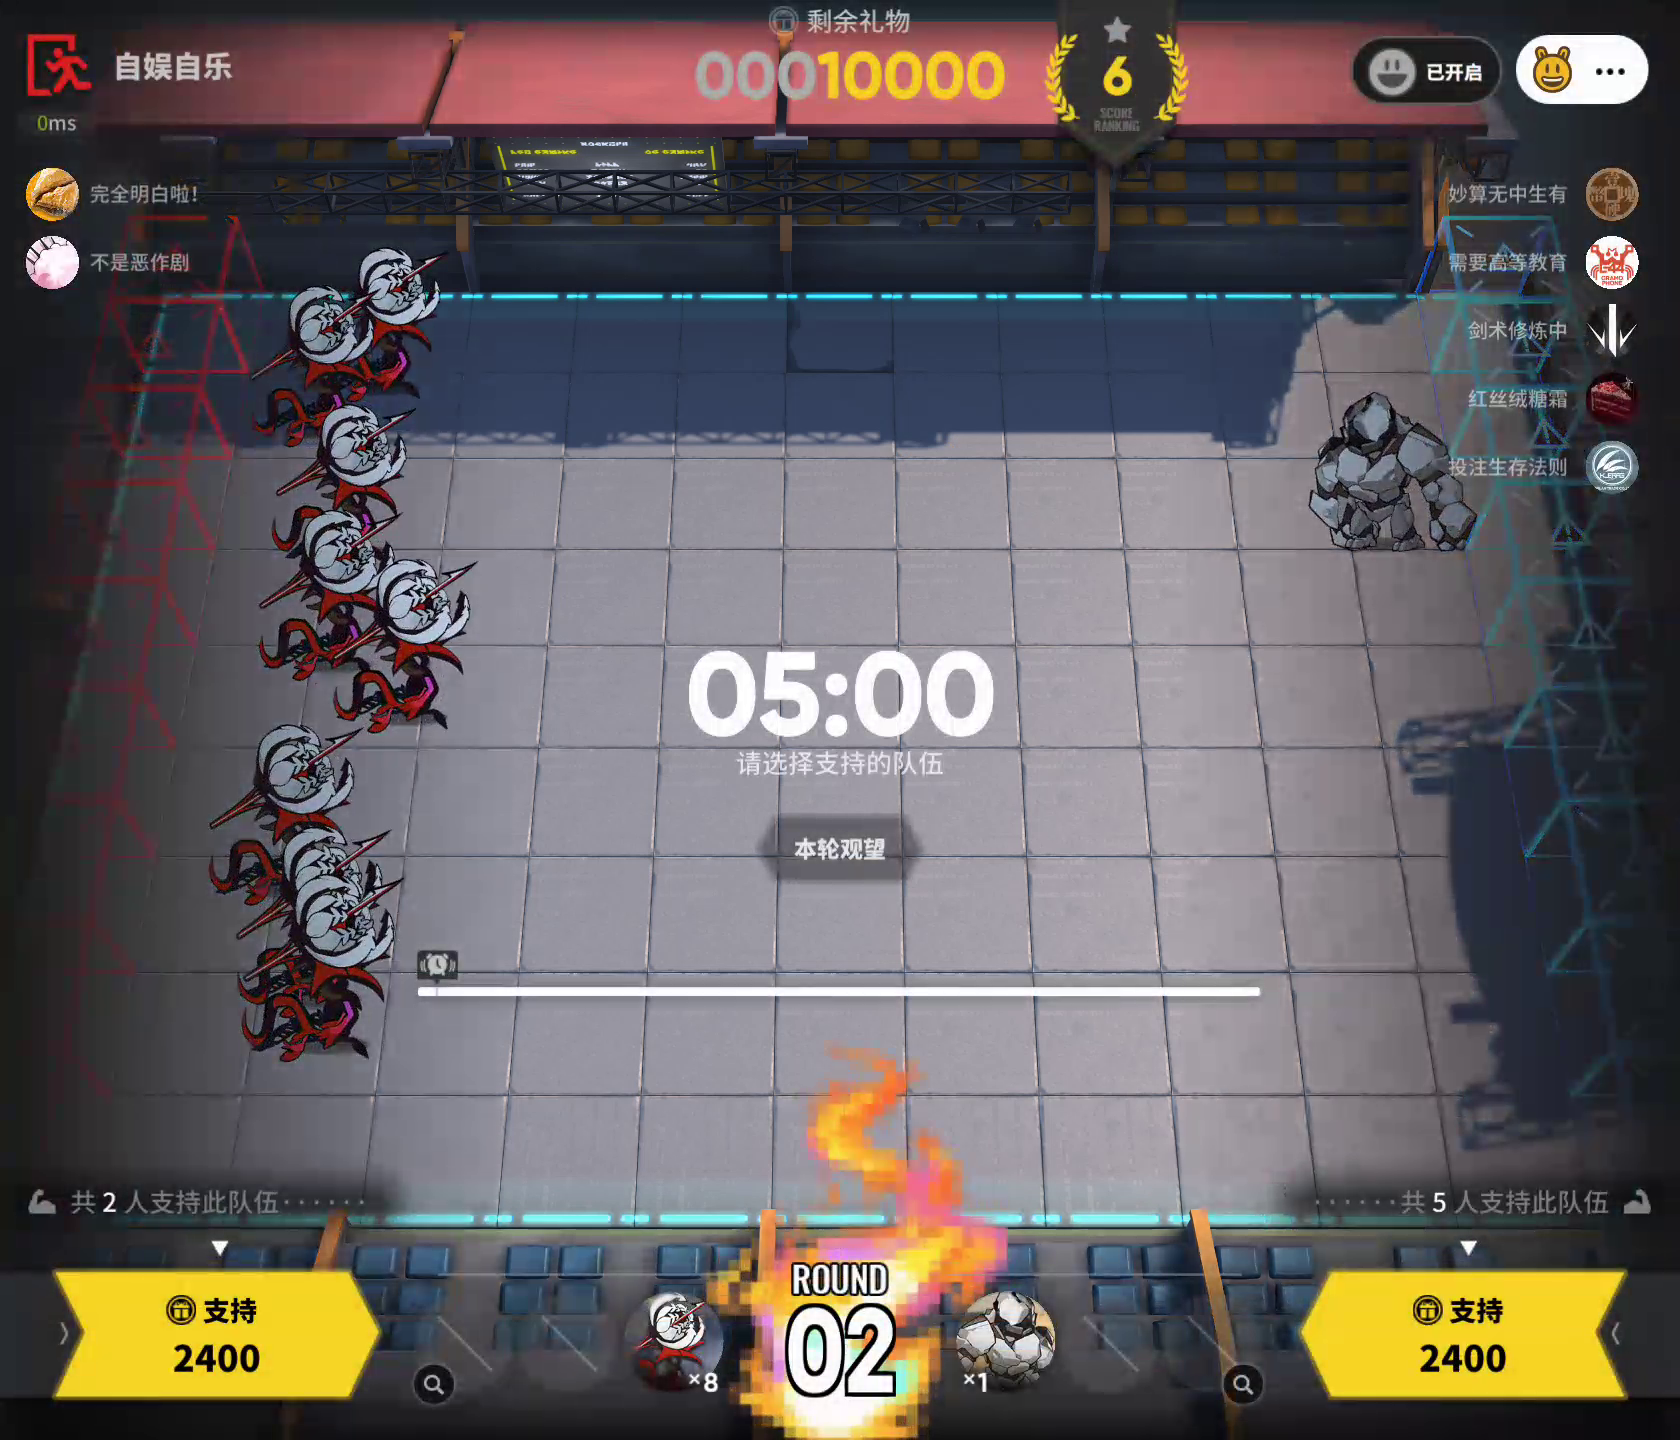标枪恐鱼: (236, 867, 426, 1076), (241, 499, 404, 689), (239, 276, 397, 464), (226, 821, 413, 967), (327, 551, 476, 734), (211, 709, 374, 863), (329, 224, 466, 404), (270, 384, 421, 546), (626, 1284, 726, 1394)
砸人的石头: (1300, 384, 1481, 563), (957, 1283, 1059, 1390)
